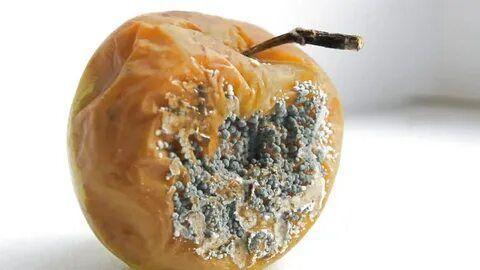Apple: (66, 11, 342, 269)
